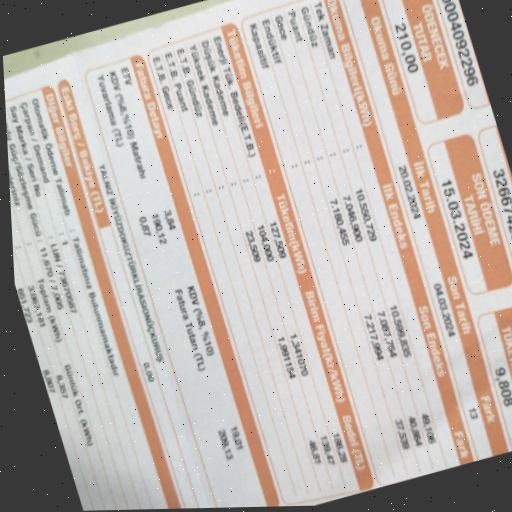electricity-bill: (4, 0, 512, 511)
